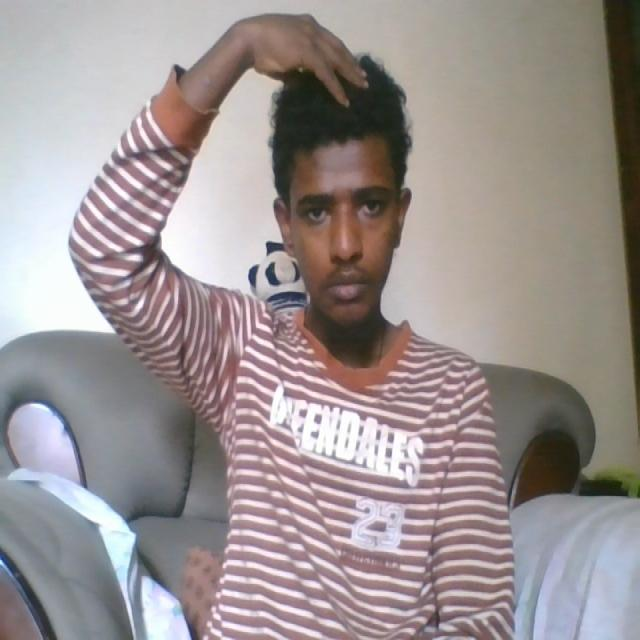mengist: (244, 0, 389, 124)
